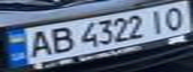2: (124, 11, 151, 40), (112, 15, 133, 44)
3: (93, 17, 115, 46)
4: (75, 19, 100, 48)
A: (21, 28, 57, 60)
B: (45, 25, 78, 55)
I: (145, 7, 172, 35)
O: (160, 3, 193, 30)
